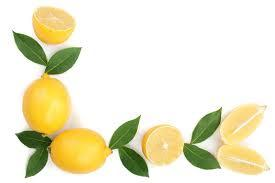lemon: (22, 74, 72, 136), (48, 128, 112, 173), (220, 103, 267, 144), (141, 124, 184, 165), (217, 144, 270, 175), (32, 6, 75, 44)
